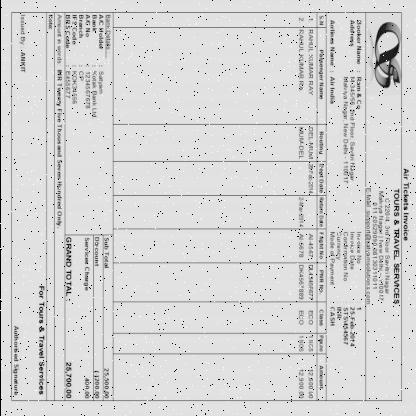Paragraph: (64, 235, 112, 400), (328, 16, 362, 186), (64, 12, 112, 121), (364, 183, 400, 308), (327, 228, 362, 349), (44, 13, 62, 231), (36, 284, 46, 396), (10, 322, 20, 398), (401, 166, 410, 244), (16, 13, 26, 75)
Table: (290, 12, 326, 404)
